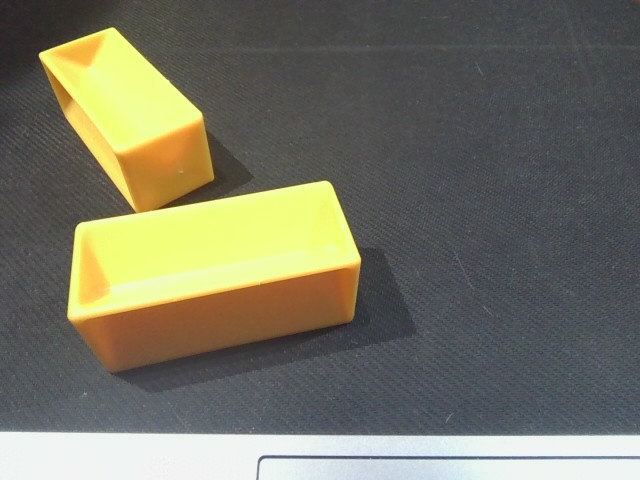YellowSample: (66, 178, 363, 380), (34, 25, 223, 212)
